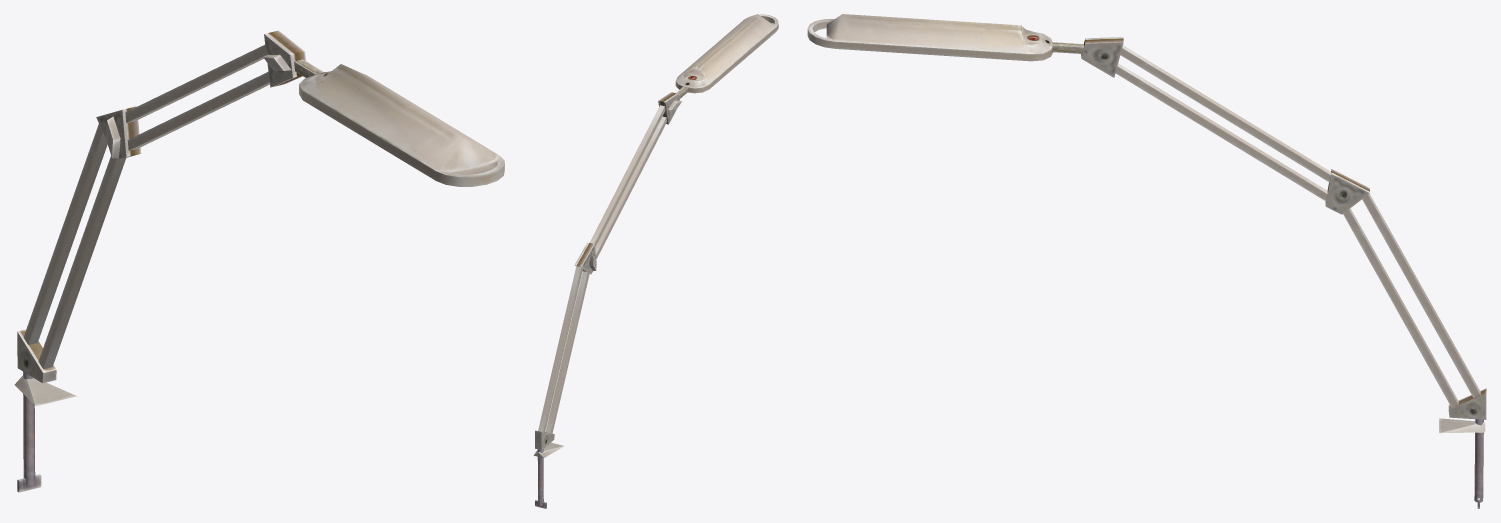
File: Office_lamp.FBX
3 views of the same model, side by side, from view 1: azimuth 30°, elevation 25°; view 2: azimuth 150°, elevation 25°; view 3: azimuth 270°, elevation 25° (orthographic). The views are drawn at different scales.
Visible parts, largest first — view 1: Office_lamp; view 2: Office_lamp; view 3: Office_lamp.
Part boxes in pixels (bbox=[...]): Office_lamp: bbox=[14, 30, 504, 492]; Office_lamp: bbox=[533, 14, 778, 508]; Office_lamp: bbox=[807, 14, 1486, 508].
Size of the model in its own units: 5.4 by 67.84 by 54.12.
